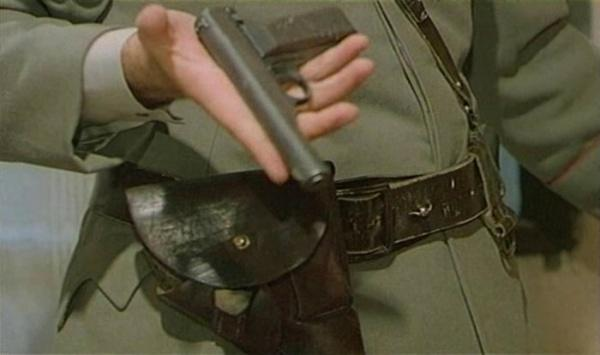Gun: (196, 4, 357, 192)
